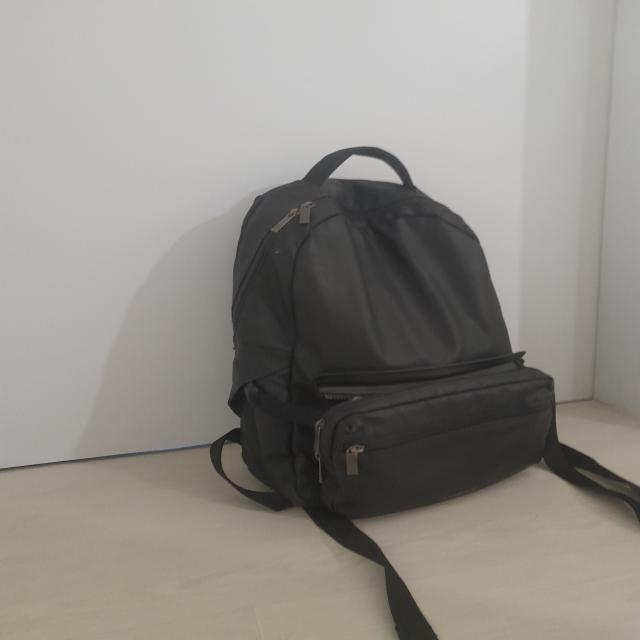backpack: (209, 146, 640, 640)
